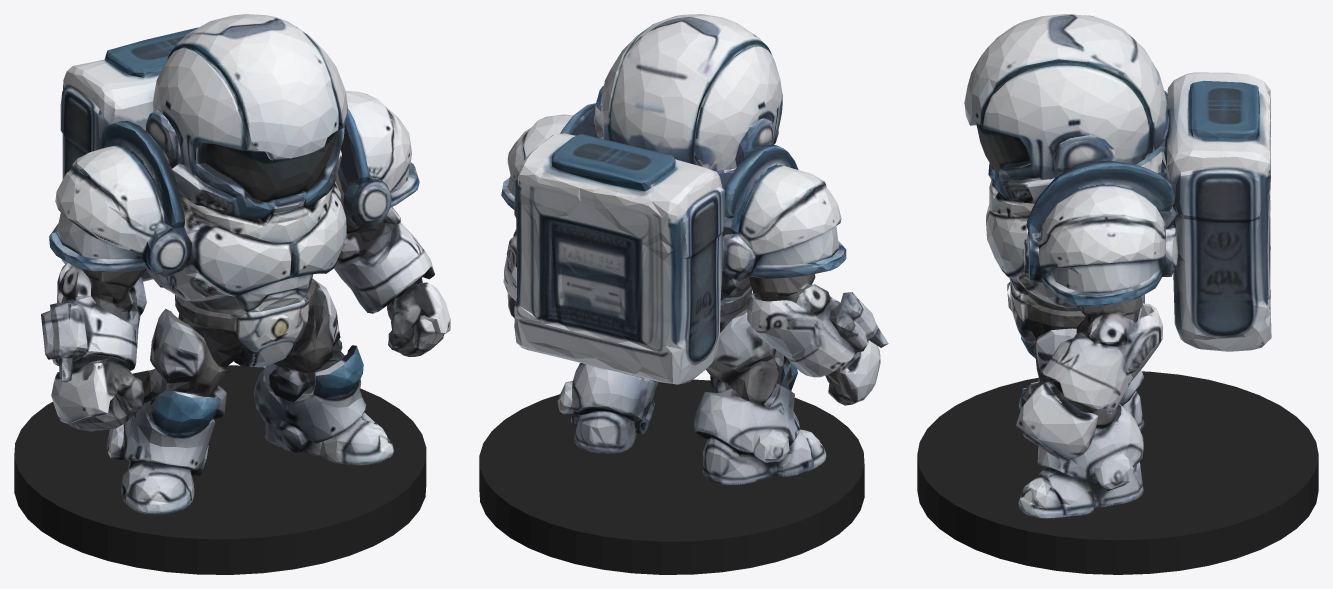
File: medic.glb
3 views of the same model, side by side, from view 1: azimuth 30°, elevation 25°; view 2: azimuth 150°, elevation 25°; view 3: azimuth 270°, elevation 25° (orthographic). The views are drawn at different scales.
Visible parts, largest first — view 1: figure, base; view 2: figure, base; view 3: figure, base.
Part boxes in pixels (box(x1,y1,x2,y2)): figure: box(41, 14, 450, 514); base: box(14, 365, 426, 574); figure: box(501, 14, 888, 485); base: box(479, 379, 864, 574); figure: box(964, 14, 1271, 518); base: box(917, 371, 1318, 574).
Size of the model in its own units: 1.38 by 1.62 by 1.26.
Materials: 2 (1 with a texture image).
